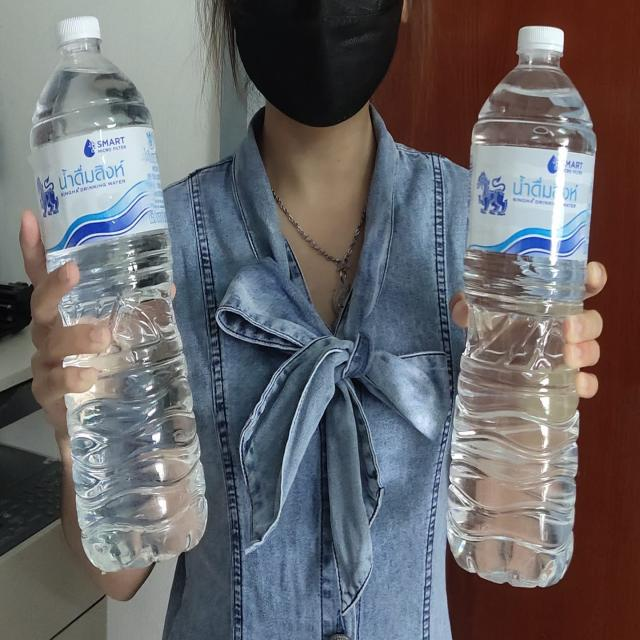bottle: (20, 15, 205, 567), (445, 21, 604, 595)
